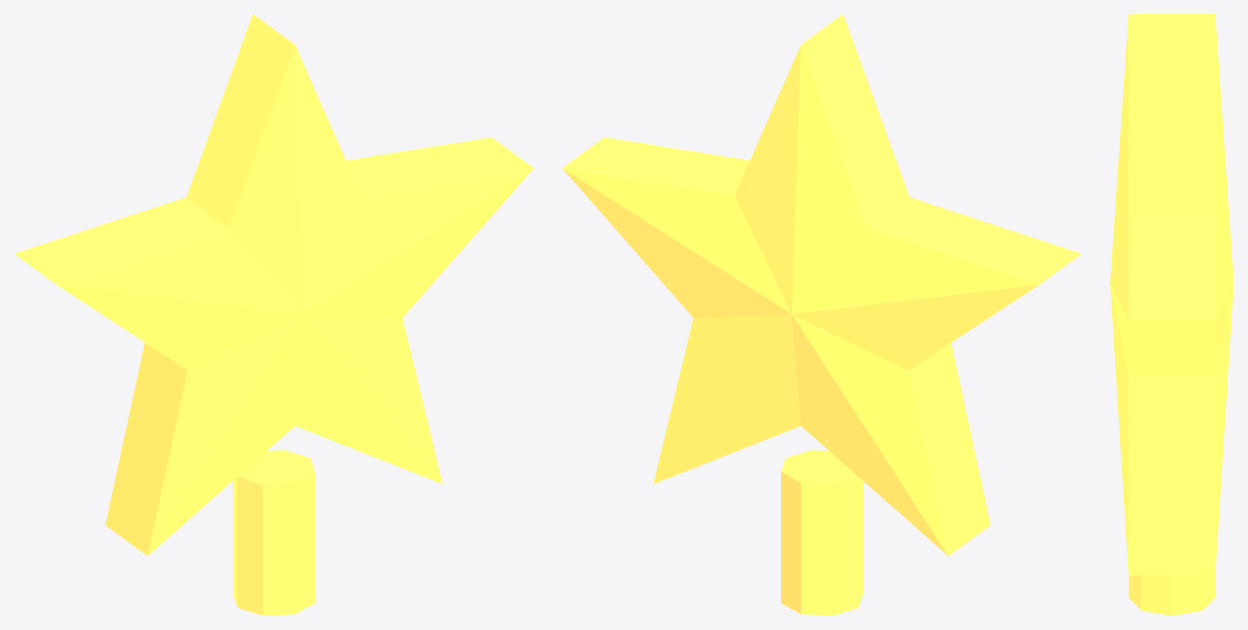
File: TreePlaza_Star.glb
3 views of the same model, side by side, from view 1: azimuth 30°, elevation 25°; view 2: azimuth 150°, elevation 25°; view 3: azimuth 270°, elevation 25° (orthographic). The views are drawn at different scales.
Visible parts, largest first — view 1: TreePlaza_Star; view 2: TreePlaza_Star; view 3: TreePlaza_Star.
Boxes of the visible parts, bbox=[...] form: TreePlaza_Star: bbox=[14, 14, 533, 615]; TreePlaza_Star: bbox=[562, 14, 1081, 615]; TreePlaza_Star: bbox=[1110, 14, 1233, 615].
Bounding box in the file's own units: 4.57 × 5.2 × 1.
